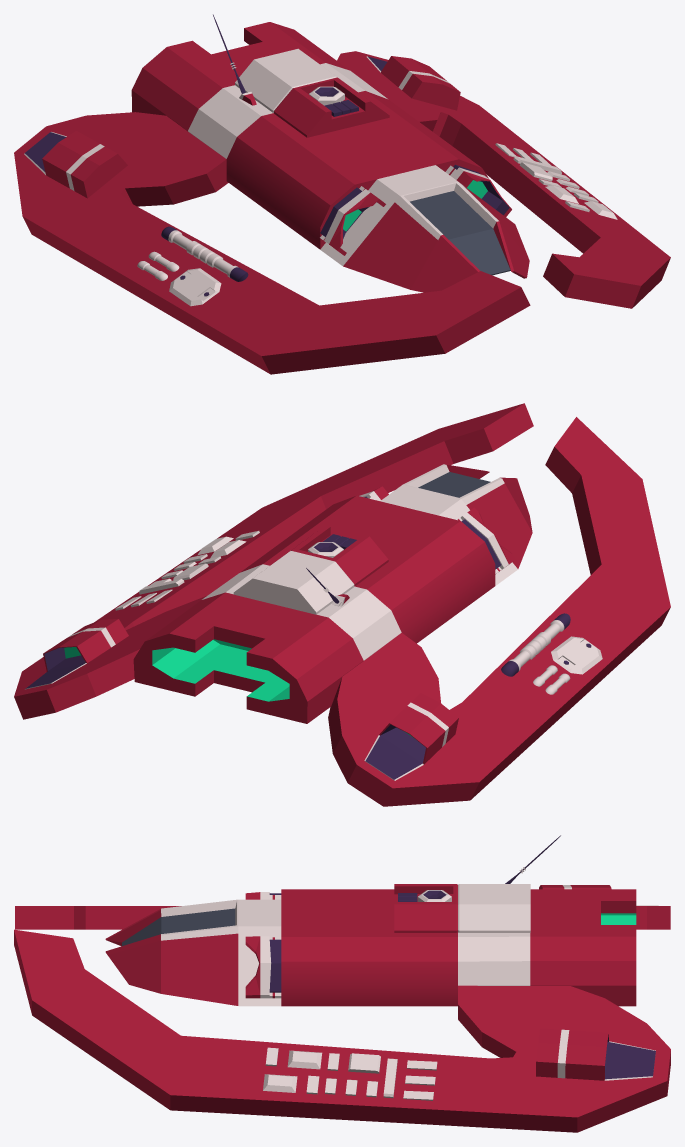
Rendered from UnWeaponedShip.fbx.
3 views of the same model, one above another, from view 1: azimuth 30°, elevation 25°; view 2: azimuth 150°, elevation 25°; view 3: azimuth 270°, elevation 25° (orthographic). The views are drawn at different scales.
Visible parts, largest first — view 1: mergedBlocks; view 2: mergedBlocks; view 3: mergedBlocks.
Part boxes in pixels (box(x1,y1,x2,y2)): mergedBlocks: box(14, 14, 670, 374); mergedBlocks: box(14, 403, 670, 806); mergedBlocks: box(14, 835, 670, 1132).
Size of the model in its own units: 0.3694 by 0.1431 by 0.4871.
